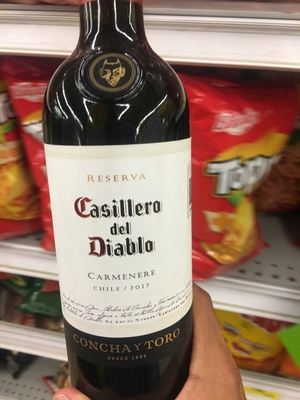casillero del diablo carmenere: (48, 4, 222, 400)
